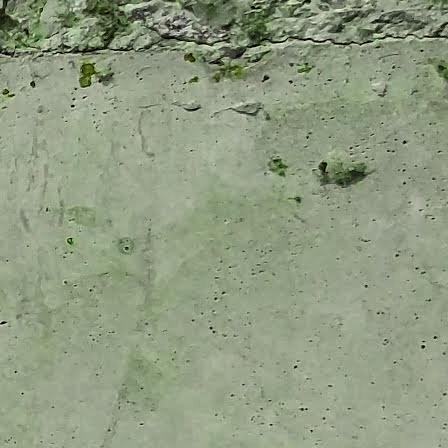crack: (227, 19, 448, 60), (46, 16, 233, 61)
spalling: (0, 0, 45, 61)
